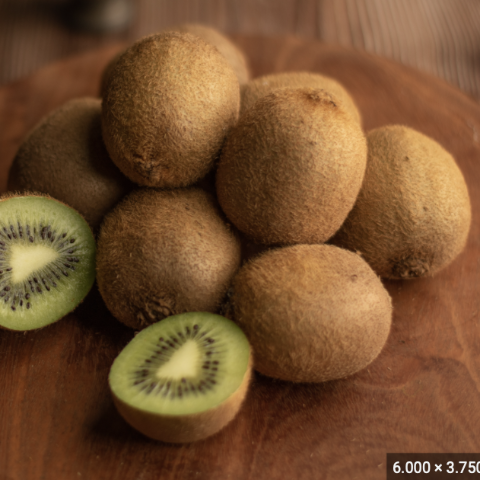kiwi: (205, 243, 409, 379), (198, 82, 372, 240), (76, 183, 245, 337), (86, 23, 243, 182), (335, 122, 473, 296)
